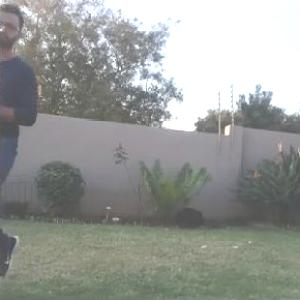follow: (0, 0, 47, 291)
